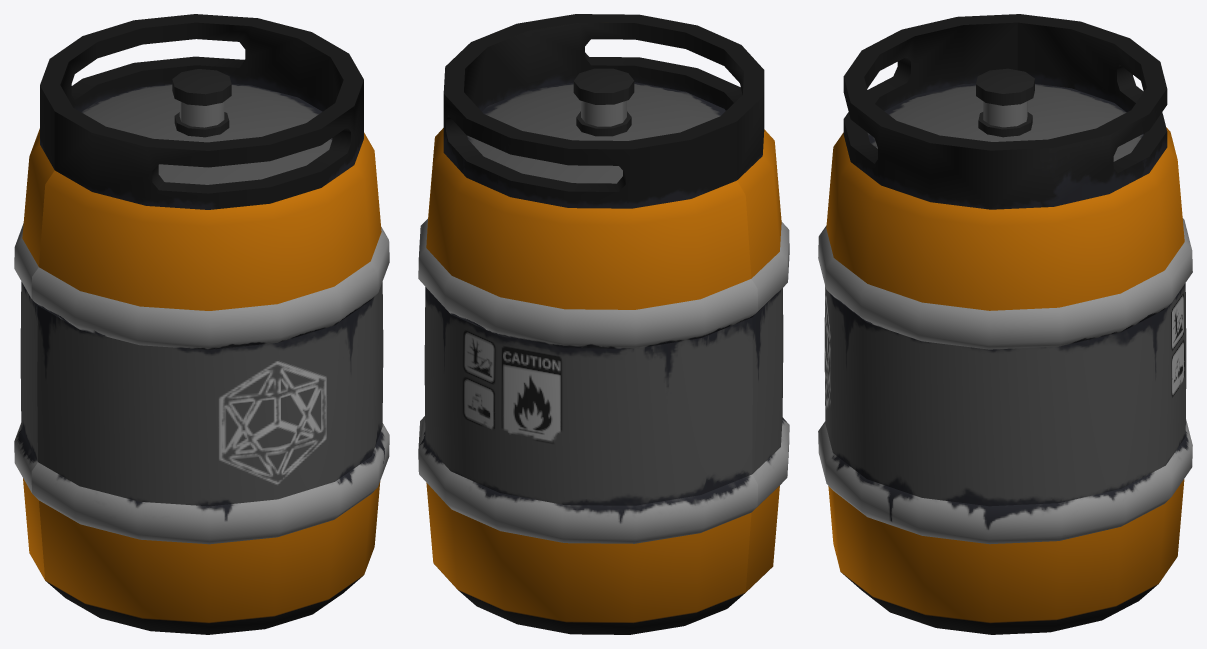
The model's file is FUT0410023.fbx.
The picture shows the model from 3 angles, left to right: view 1: azimuth 30°, elevation 25°; view 2: azimuth 150°, elevation 25°; view 3: azimuth 270°, elevation 25°; orthographic projection.
Parts seen in each view (by area): view 1: smFUT0410023; view 2: smFUT0410023; view 3: smFUT0410023.
Part boxes in pixels (x1,y1,x2,y2): smFUT0410023: (14,14,389,634); smFUT0410023: (418,14,789,634); smFUT0410023: (818,14,1192,634).
Bounding box in the file's own units: 85.61 × 125 × 85.62.
Materials: 1 (1 with a texture image).
